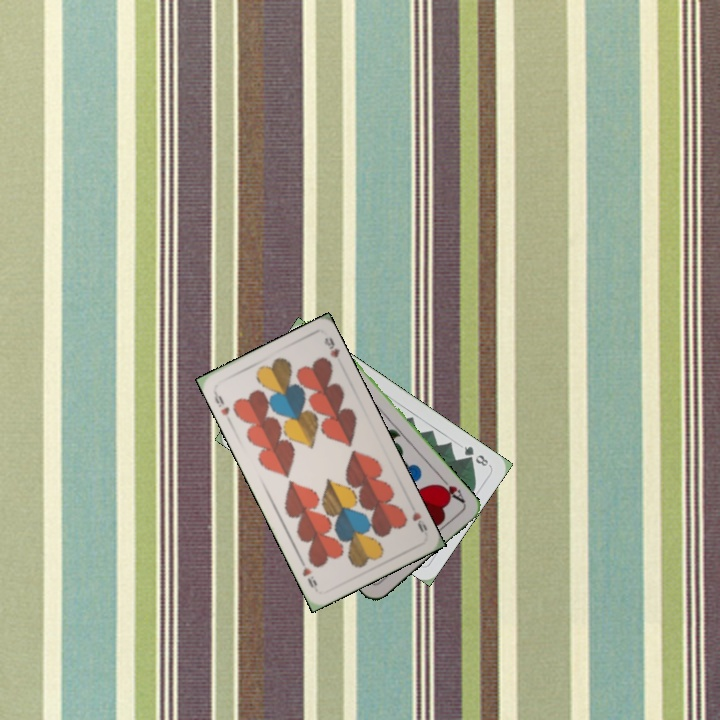G8: (460, 442, 491, 469)
H9: (209, 387, 232, 418), (408, 507, 430, 535)
HA: (434, 473, 468, 506)
